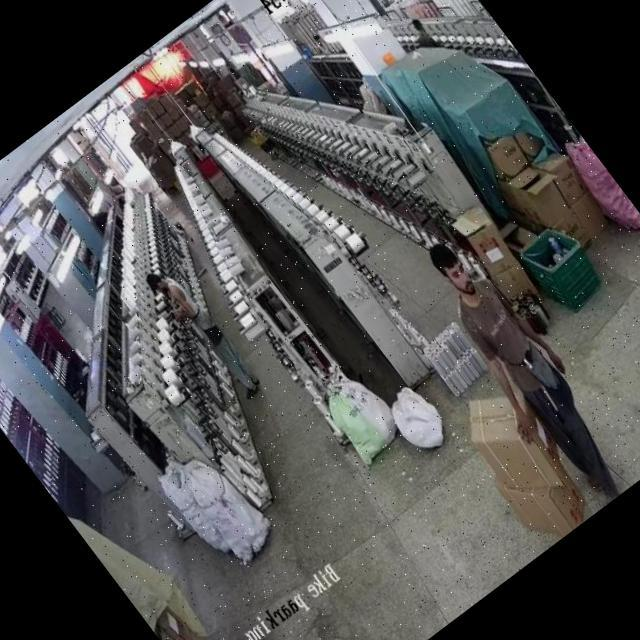person: (409, 228, 626, 492), (140, 263, 259, 407)
